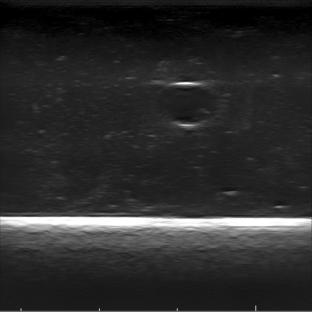vessel: (160, 81, 216, 131)
